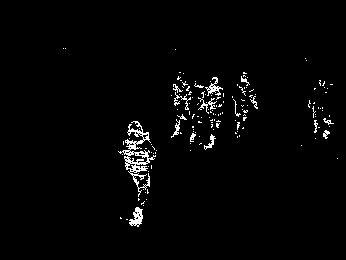person: (124, 120, 157, 227), (231, 70, 259, 138), (171, 72, 193, 139), (206, 76, 224, 150), (307, 78, 327, 133)
